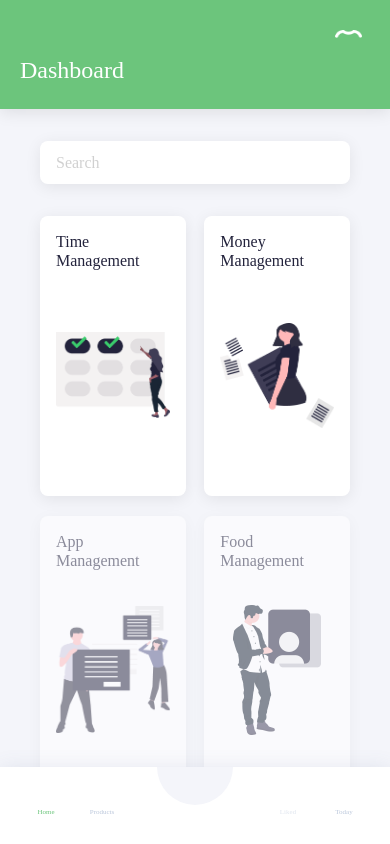
Dashboard screen › switches to Money Management with its tab active through the real navigator
Click the button with test id "tile-MoneyManagement" at (277,356), box [204,216,350,496]
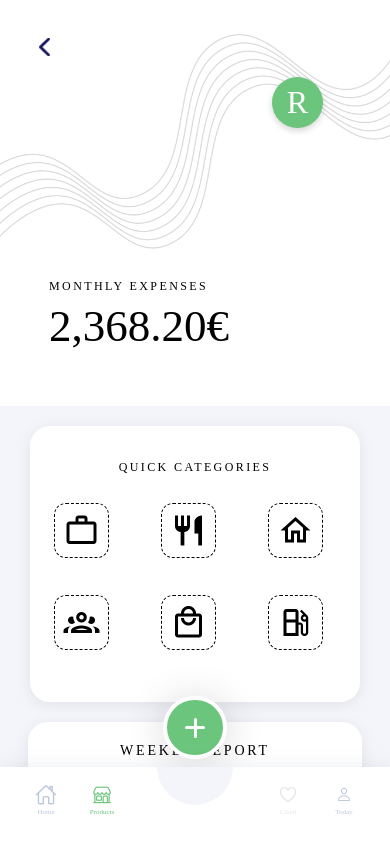
Expected: the element with test id "screen-MoneyManagement" is shown
